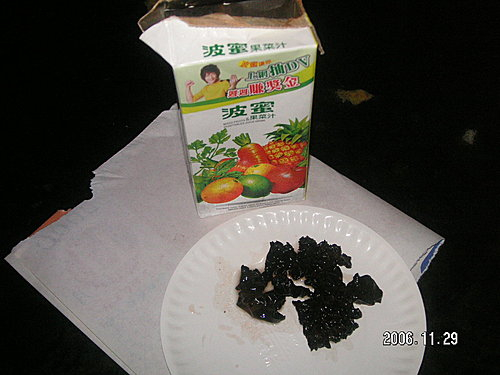vegetables juice: (174, 38, 313, 202)
